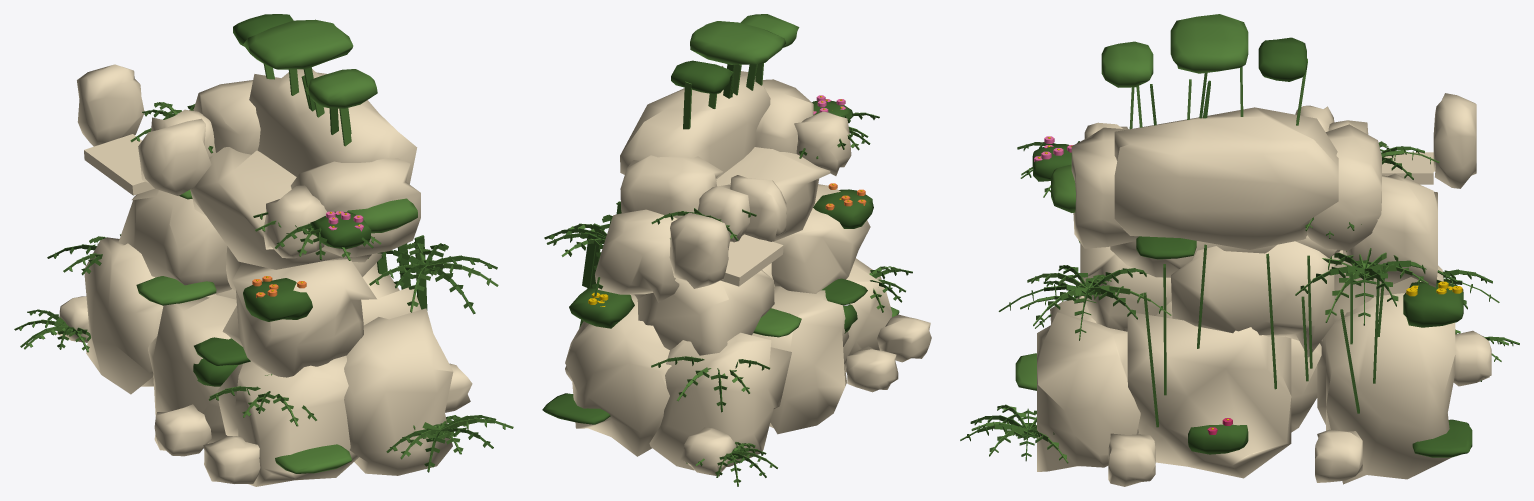
File: gl-falls.glb
The picture shows the model from 3 angles, left to right: view 1: azimuth 30°, elevation 25°; view 2: azimuth 150°, elevation 25°; view 3: azimuth 270°, elevation 25°; orthographic projection. The views are drawn at different scales.
Visible parts, largest first — view 1: gl-falls; view 2: gl-falls; view 3: gl-falls.
Boxes of the visible parts, left/top/right/bottom form: gl-falls: left=14, top=14, right=513, bottom=486; gl-falls: left=542, top=14, right=931, bottom=486; gl-falls: left=960, top=14, right=1519, bottom=486.
Bounding box in the file's own units: 4.27 × 5.25 × 6.49.
